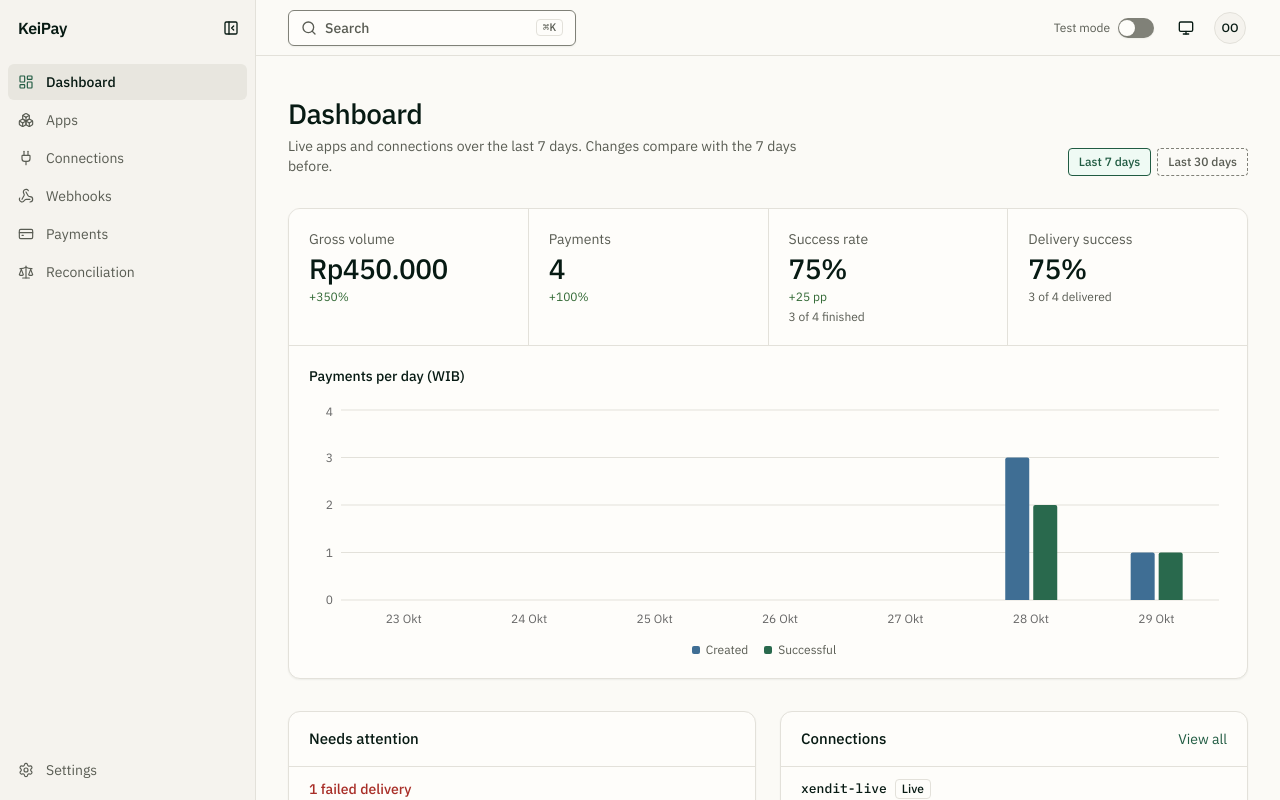
Dashboard page › follows the Test mode switch and says so
The width and height of the screenshot is (1280, 800).
Expected: the text "Gross volume" is shown, [309,230,395,248]
Click the switch named "Test mode". click: (1136,28)
box: [1118,18,1154,38]
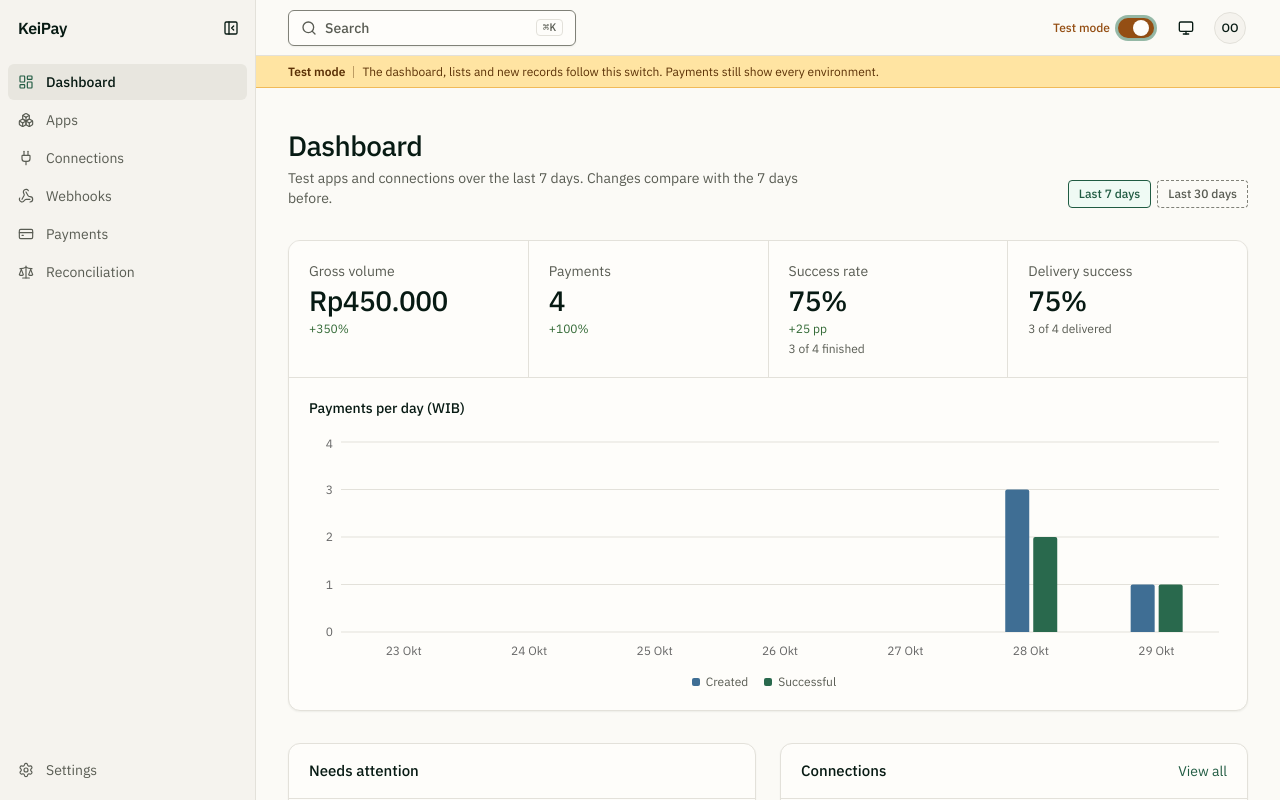
Expected: the text "Test apps and connections over the last 7 days" is shown, [288,169,798,207]
